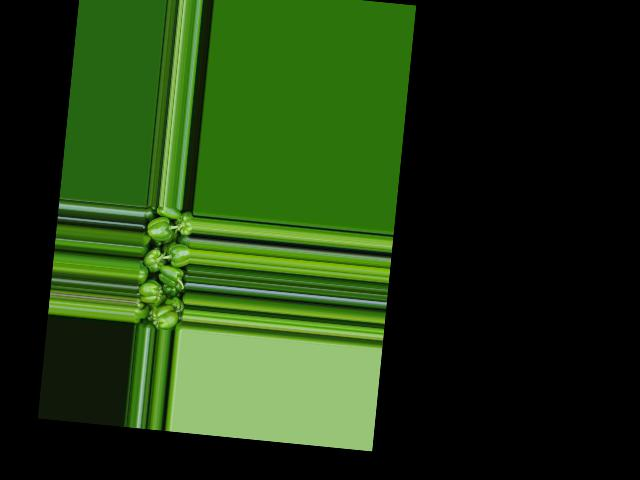bell_pepper: (133, 206, 192, 331)
